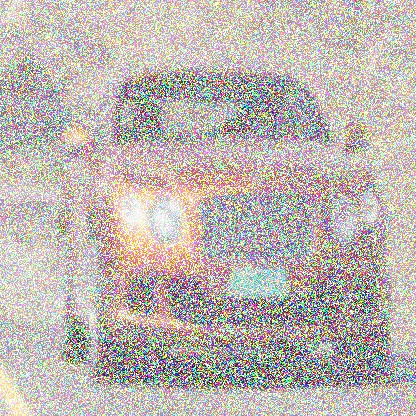Vehicle: (57, 57, 397, 391)
